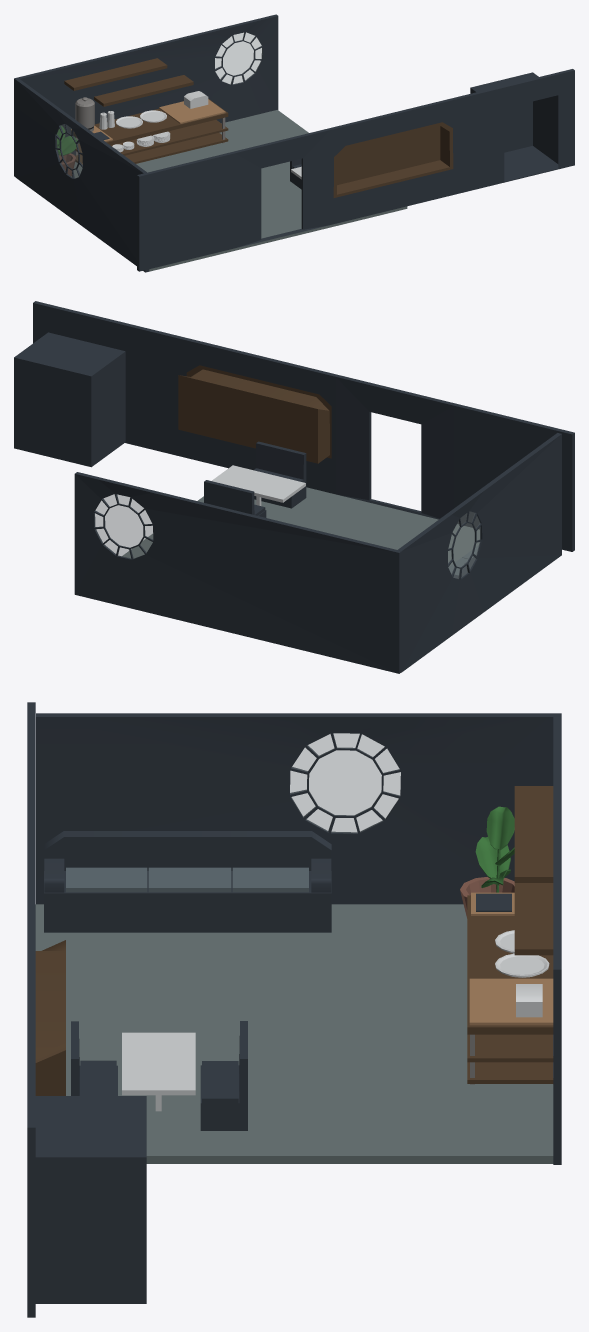
File: staff_room.fbx
3 renders of one model, top to bottom at view 1: azimuth 30°, elevation 25°; view 2: azimuth 150°, elevation 25°; view 3: azimuth 270°, elevation 25°, orthographic. The views are drawn at different scales.
Visible parts, largest first — view 1: lobby_wall_GEO, window_pane_GEO5, window_pane_GEO1, polySurface3, kitchen_table_GEO1, window_glass_GEO5, shelf_2_GEO, shelf_1_GEO, board_GEO, window_glass_GEO1, coffee_GEO, toaster_GEO; view 2: lobby_wall_GEO, window_pane_GEO5, window_pane_GEO1, polySurface3, window_glass_GEO5, booth_chair9, booth_table4, booth_chair8, window_glass_GEO1; view 3: polySurface3, window_pane_GEO1, lobby_wall_GEO, couch_GEO1, window_glass_GEO1, kitchen_table_GEO1, booth_table4, window_pane_GEO5, shelf_2_GEO, booth_chair8, board_GEO, shelf_1_GEO (+8 smaller).
Part boxes in pixels (left/top/right/bottom): lobby_wall_GEO: left=137, top=69, right=574, bottom=271; window_pane_GEO5: left=14, top=14, right=278, bottom=177; window_pane_GEO1: left=15, top=79, right=148, bottom=272; polySurface3: left=71, top=110, right=407, bottom=271; kitchen_table_GEO1: left=71, top=98, right=228, bottom=164; window_glass_GEO5: left=215, top=32, right=262, bottom=84; shelf_2_GEO: left=64, top=58, right=167, bottom=90; shelf_1_GEO: left=94, top=75, right=193, bottom=106; board_GEO: left=159, top=99, right=225, bottom=123; window_glass_GEO1: left=56, top=124, right=82, bottom=178; coffee_GEO: left=75, top=97, right=94, bottom=131; toaster_GEO: left=184, top=91, right=208, bottom=108; lobby_wall_GEO: left=14, top=301, right=574, bottom=551; window_pane_GEO5: left=74, top=472, right=401, bottom=673; window_pane_GEO1: left=397, top=433, right=561, bottom=672; polySurface3: left=122, top=487, right=479, bottom=566; window_glass_GEO5: left=95, top=494, right=152, bottom=558; booth_chair9: left=254, top=441, right=306, bottom=508; booth_table4: left=212, top=465, right=305, bottom=505; booth_chair8: left=204, top=480, right=266, bottom=517; window_glass_GEO1: left=448, top=511, right=480, bottom=578; polySurface3: left=35, top=904, right=553, bottom=1163; window_pane_GEO1: left=36, top=713, right=554, bottom=904; lobby_wall_GEO: left=27, top=702, right=146, bottom=1317; couch_GEO1: left=44, top=831, right=331, bottom=932; window_glass_GEO1: left=290, top=733, right=400, bottom=832; kitchen_table_GEO1: left=467, top=895, right=553, bottom=1084; booth_table4: left=122, top=1032, right=195, bottom=1111; window_pane_GEO5: left=553, top=713, right=561, bottom=1164; shelf_2_GEO: left=514, top=786, right=553, bottom=882; booth_chair8: left=200, top=1021, right=247, bottom=1130; board_GEO: left=469, top=978, right=553, bottom=1025; shelf_1_GEO: left=514, top=883, right=553, bottom=955.
Size of the model in its own units: 1375 by 300 by 730.
